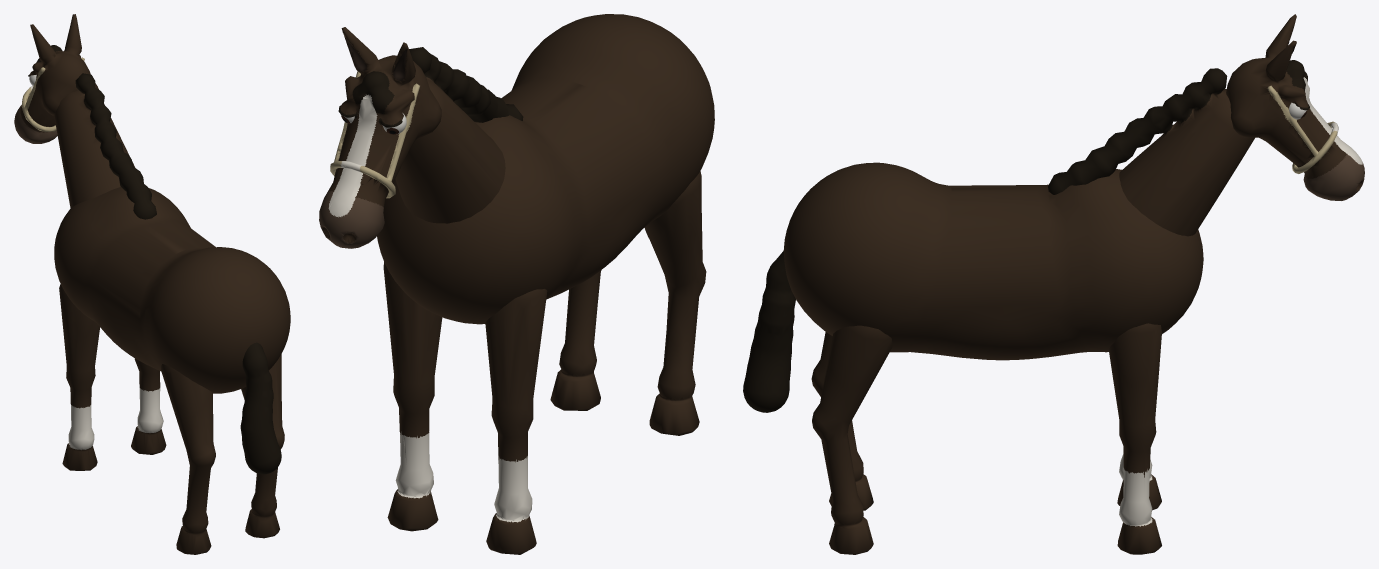
File: horse-black.glb
The picture shows the model from 3 angles, left to right: view 1: azimuth 30°, elevation 25°; view 2: azimuth 150°, elevation 25°; view 3: azimuth 270°, elevation 25°; orthographic projection. The views are drawn at different scales.
Visible parts, largest first — view 1: body_lod0, neck_lod0, leg_2_lod0, head_lod0, leg_0_lod0, tail_lod0, leg_3_lod0, leg_1_lod0; view 2: body_lod0, head_lod0, neck_lod0, leg_0_lod0, leg_1_lod0, leg_2_lod0, leg_3_lod0; view 3: body_lod0, neck_lod0, head_lod0, leg_3_lod0, leg_1_lod0, tail_lod0, leg_2_lod0.
Boxes of the visible parts, x1,y1,x2,y2 form: body_lod0: (54, 187, 290, 393); neck_lod0: (54, 73, 156, 219); leg_2_lod0: (161, 364, 215, 554); head_lod0: (14, 14, 98, 143); leg_0_lod0: (59, 284, 99, 470); tail_lod0: (240, 342, 281, 474); leg_3_lod0: (241, 354, 284, 538); leg_1_lod0: (131, 358, 166, 454); body_lod0: (377, 14, 714, 324); head_lod0: (319, 27, 441, 248); neck_lod0: (395, 47, 523, 223); leg_0_lod0: (485, 289, 547, 554); leg_1_lod0: (383, 262, 442, 531); leg_2_lod0: (644, 171, 706, 435); leg_3_lod0: (550, 270, 601, 410); body_lod0: (783, 162, 1203, 360); neck_lod0: (1048, 68, 1254, 236); head_lod0: (1226, 14, 1364, 200); leg_3_lod0: (812, 325, 892, 554); leg_1_lod0: (1108, 323, 1161, 554); tail_lod0: (743, 251, 795, 412); leg_2_lod0: (811, 332, 873, 510).
Size of what is drawn, in the model's own units: 0.9409 by 2.84 by 3.21.
